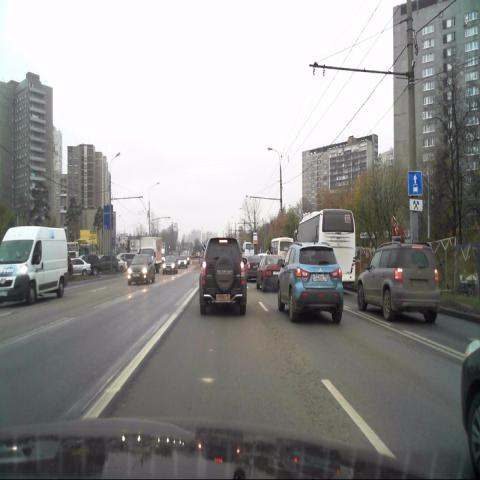5_14: (408, 171, 422, 196)
